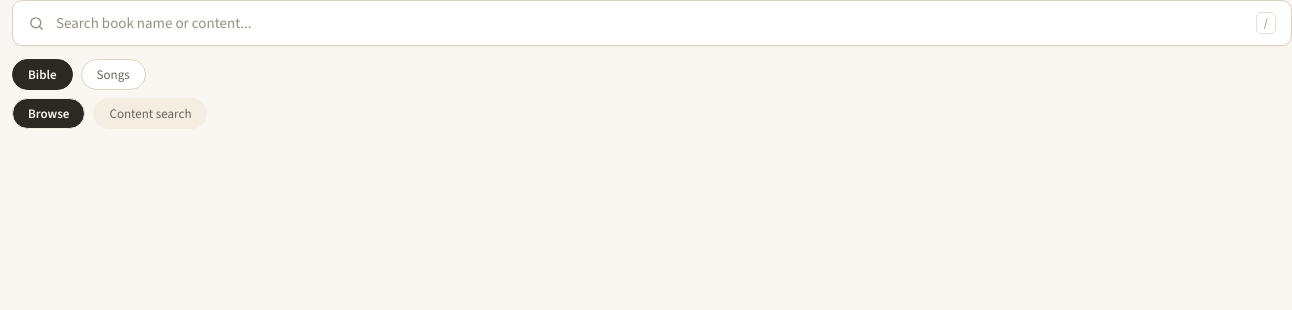
Test: SearchPanel › shows a "no matches" state when content search returns nothing
Click the button "Content search".
click(150, 114)  # box [94,98,208,129]
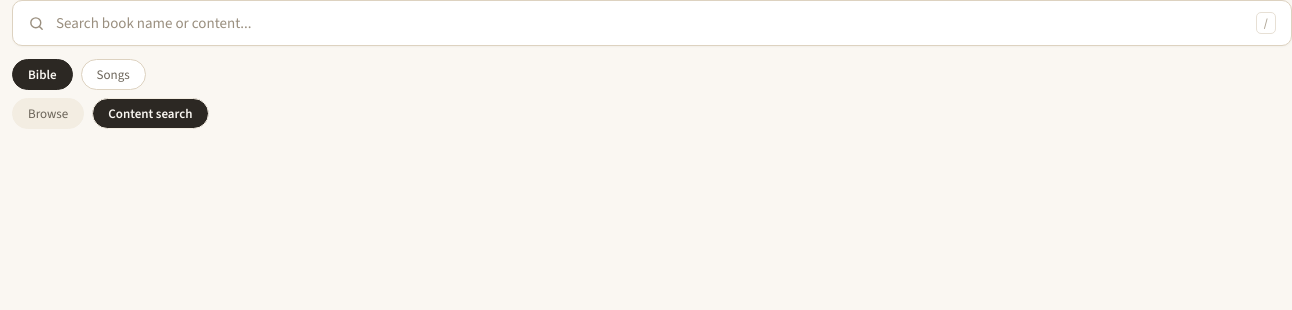
Type "zzz" into the field with placeholder "Search book name or content...".
click(650, 23); type("zzz")  # box [56,13,1245,33]
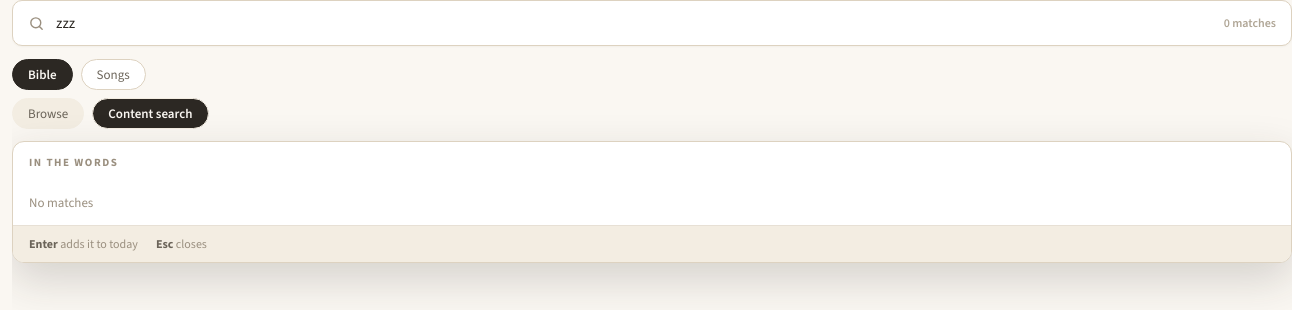
Now the text "No matches" is shown, box [29,194,93,211]
